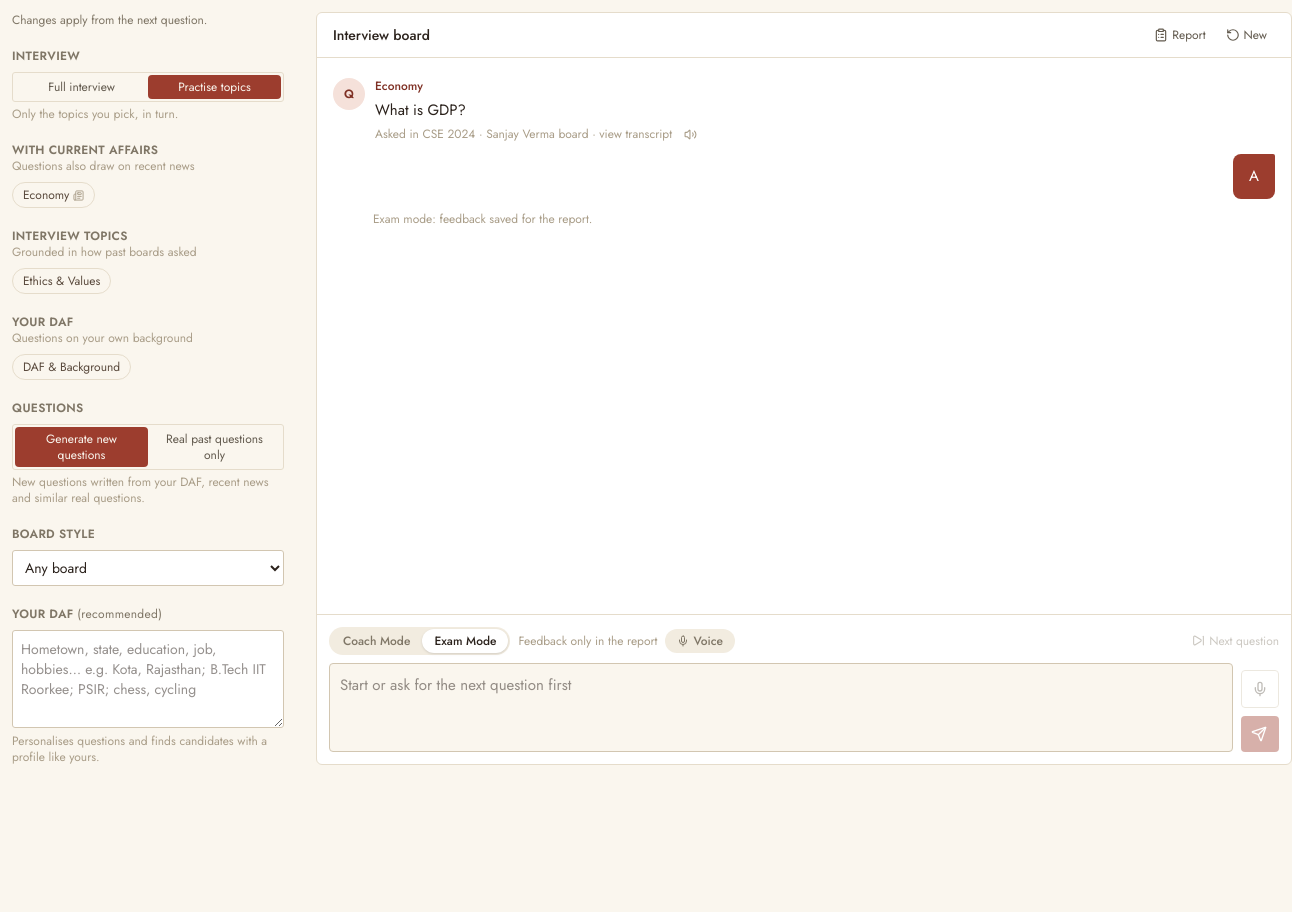
Test: a report whose critiques are still being written › stops refreshing when a new interview starts, and words several failures properly
Click the button "Report" at (1180, 35), box [1146,23,1214,47]
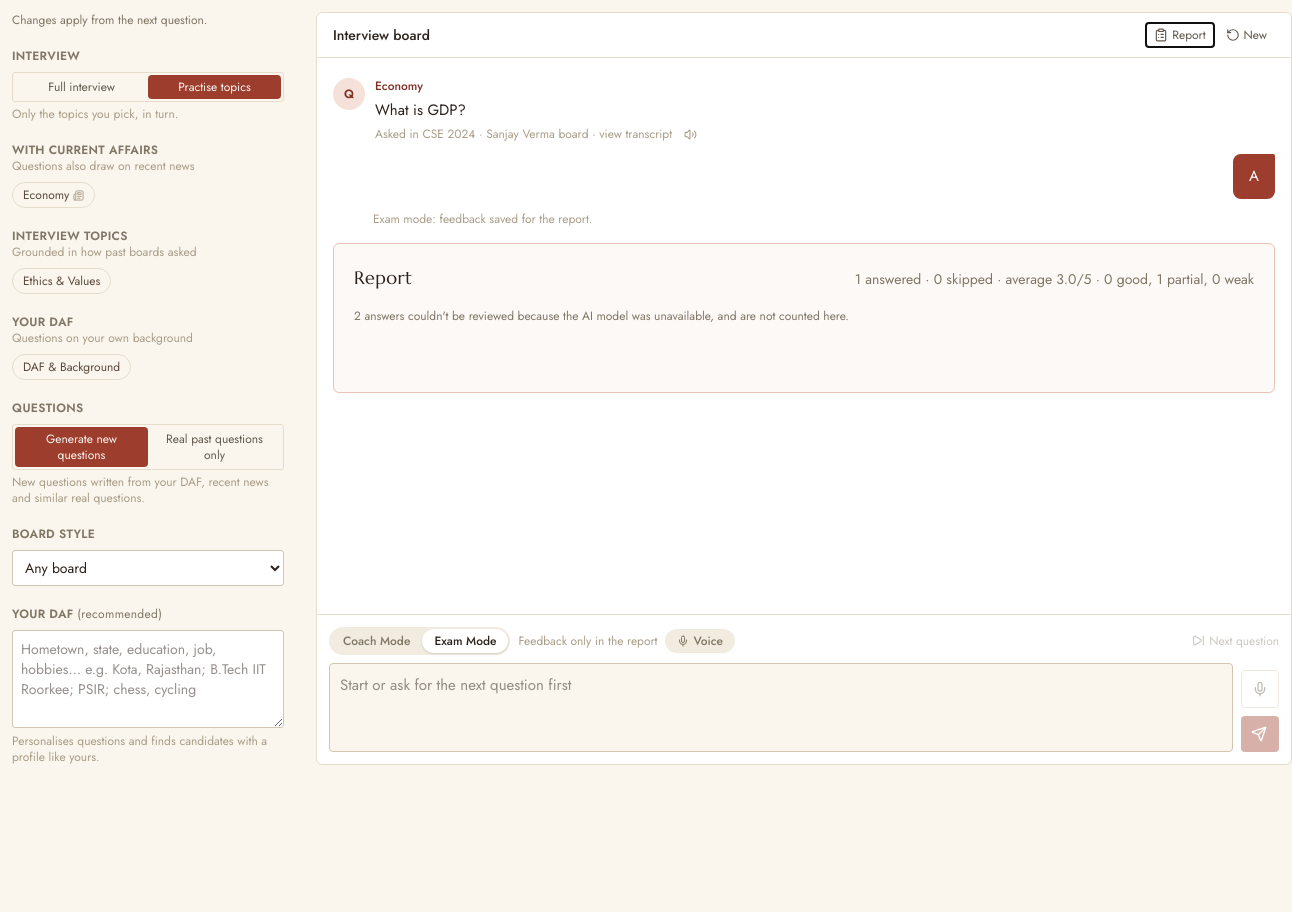
Expected: the text "2 answers couldn't be reviewed" is shown, [354,307,849,325]
Click the button "Report" at (1180, 35), box [1146,23,1214,47]
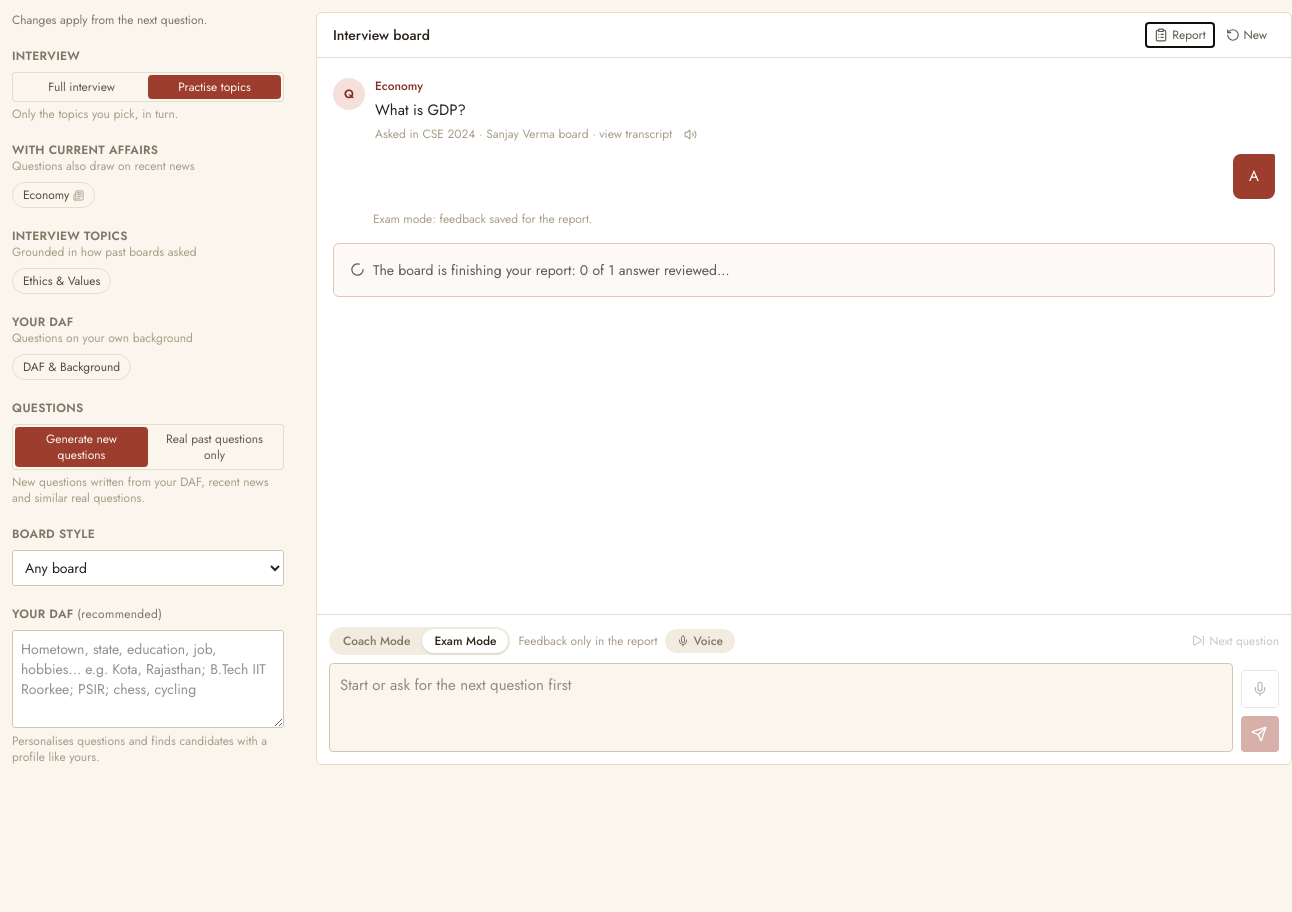
Expected: the text "The board is finishing your report: 0 of 1 answer reviewed…" is shown, [333,243,1275,297]
Click the button "New" at (1246, 35), box [1218,23,1275,47]
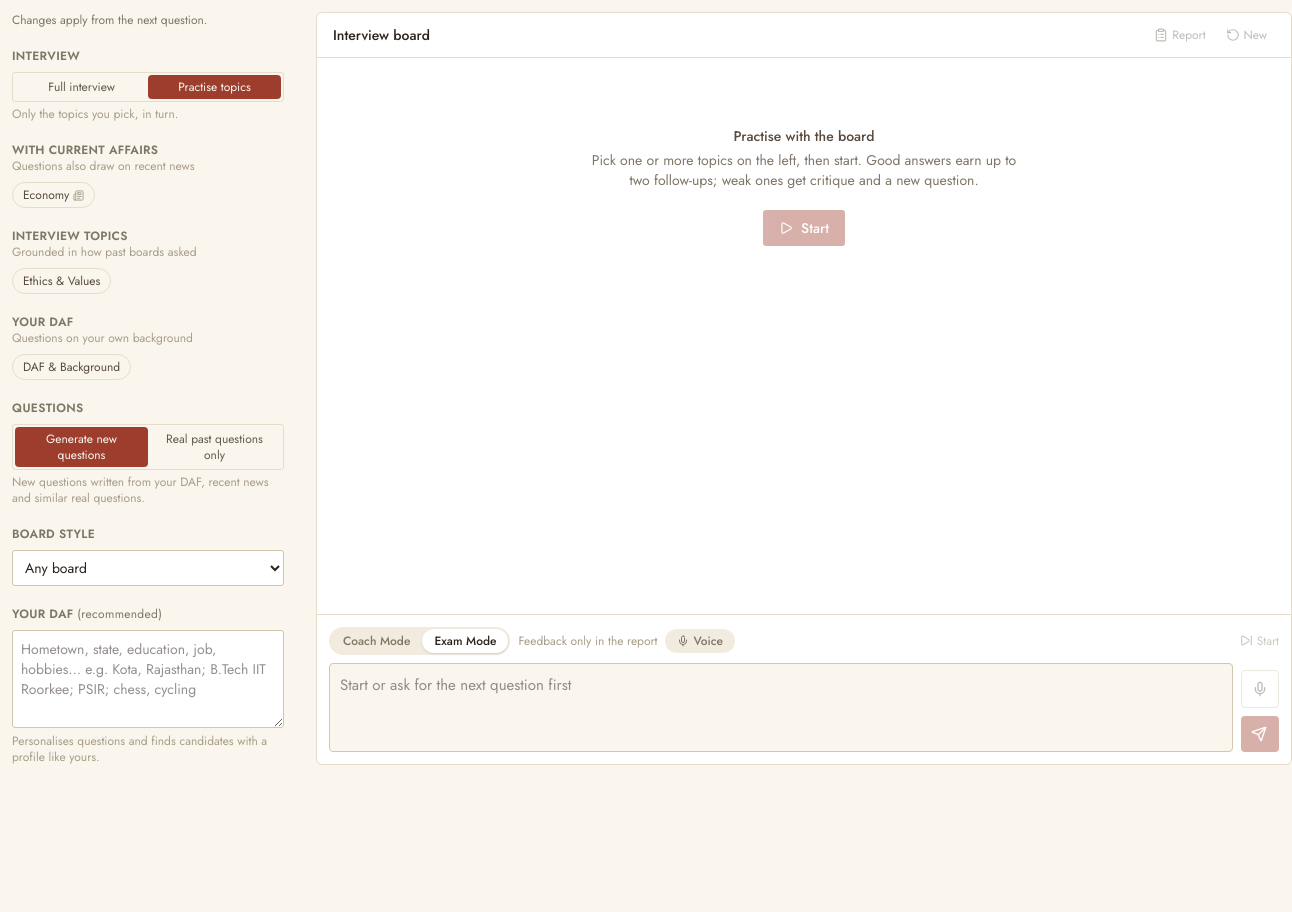
Expected: the text "finishing your report" is gone
